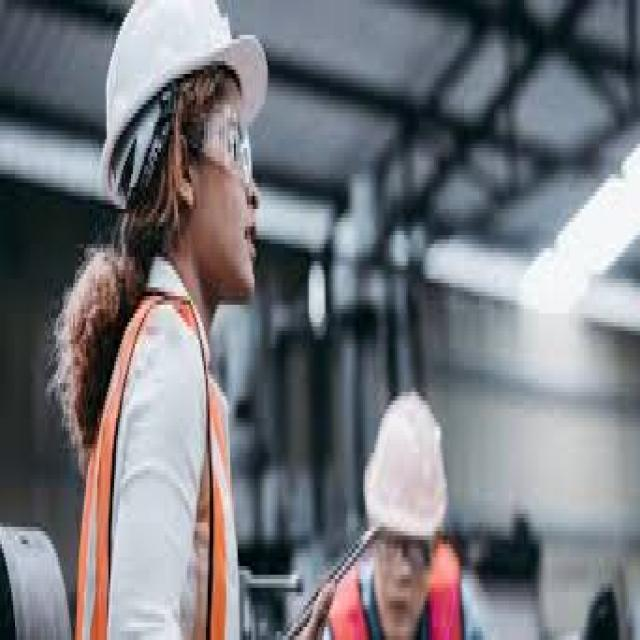Reflective-Jacket: (71, 274, 247, 640)
Safety-Helmet: (92, 0, 273, 183), (354, 370, 464, 566)
